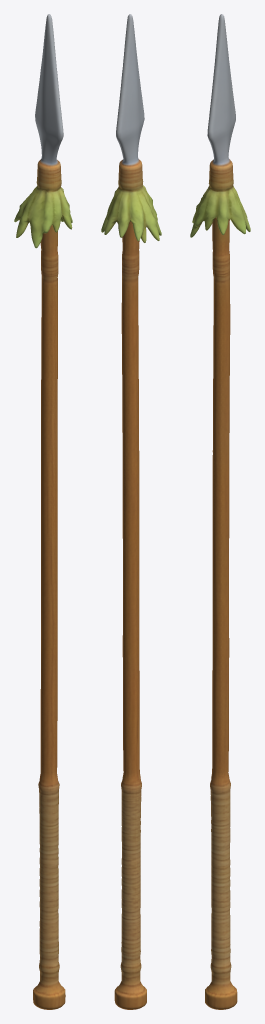
Rendered from spear-source.glb.
3 renders of one model, left to right at view 1: azimuth 30°, elevation 25°; view 2: azimuth 150°, elevation 25°; view 3: azimuth 330°, elevation 25°, orthographic.
Parts seen in each view (by area): view 1: model; view 2: model; view 3: model.
Boxes of the visible parts, box(x1,y1,x2,y2) form: model: box(14, 14, 72, 1009); model: box(101, 14, 161, 1009); model: box(190, 14, 250, 1009).
Size of the model in its own units: 0.1104 by 1.9 by 0.0983.
Materials: 1 (1 with a texture image).
